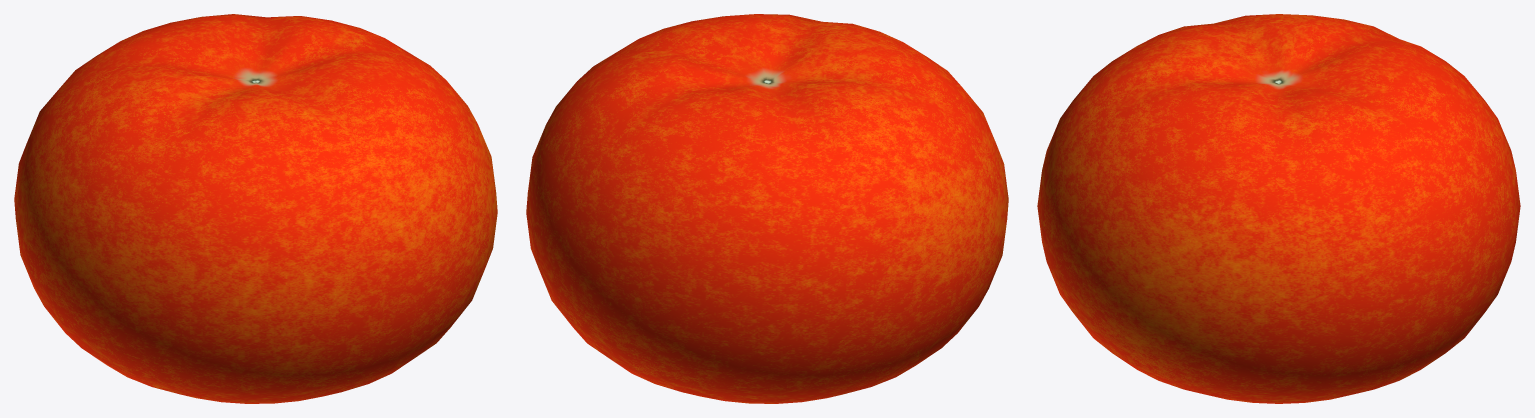
Rendered from Tomato.fbx.
The picture shows the model from 3 angles, left to right: view 1: azimuth 30°, elevation 25°; view 2: azimuth 150°, elevation 25°; view 3: azimuth 270°, elevation 25°; orthographic projection.
Visible parts, largest first — view 1: Sphere; view 2: Sphere; view 3: Sphere.
Boxes of the visible parts, x1,y1,x2,y2 form: Sphere: (14,14,497,403); Sphere: (526,14,1008,403); Sphere: (1037,14,1520,403).
Size of the model in its own units: 10 by 6.91 by 10.
1 material, 1 textured.
